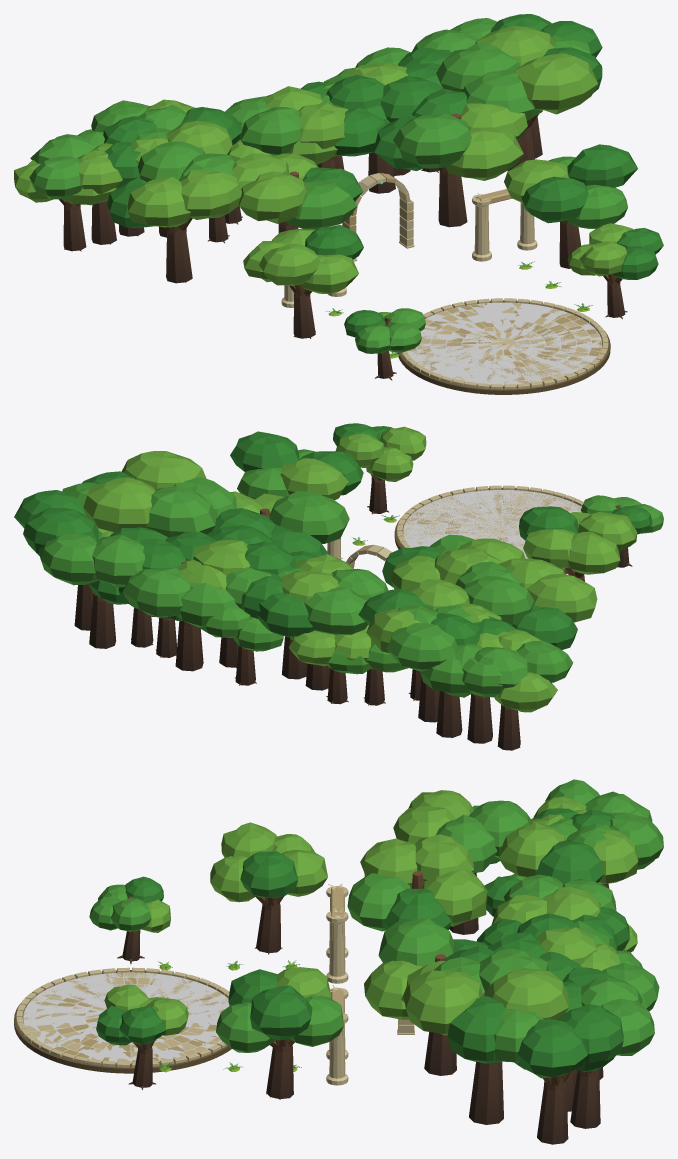
File: arena.fbx
3 renders of one model, top to bottom at view 1: azimuth 30°, elevation 25°; view 2: azimuth 150°, elevation 25°; view 3: azimuth 270°, elevation 25°, orthographic. The views are drawn at different scales.
Visible parts, largest first — view 1: arena_backdrop, arena, Col_Ground; view 2: arena_backdrop, Col_Ground, arena; view 3: arena_backdrop, arena, Col_Ground.
Part boxes in pixels (left/top/right/bottom): arena_backdrop: left=14, top=14, right=663, bottom=380; arena: left=397, top=298, right=610, bottom=394; Col_Ground: left=407, top=302, right=601, bottom=385; arena_backdrop: left=14, top=423, right=663, bottom=750; Col_Ground: left=403, top=490, right=581, bottom=558; arena: left=394, top=485, right=583, bottom=574; arena_backdrop: left=89, top=779, right=663, bottom=1144; arena: left=14, top=967, right=231, bottom=1073; Col_Ground: left=23, top=972, right=229, bottom=1063.
Size of what is drawn, in the model's own units: 61.26 by 14.74 by 56.68.
